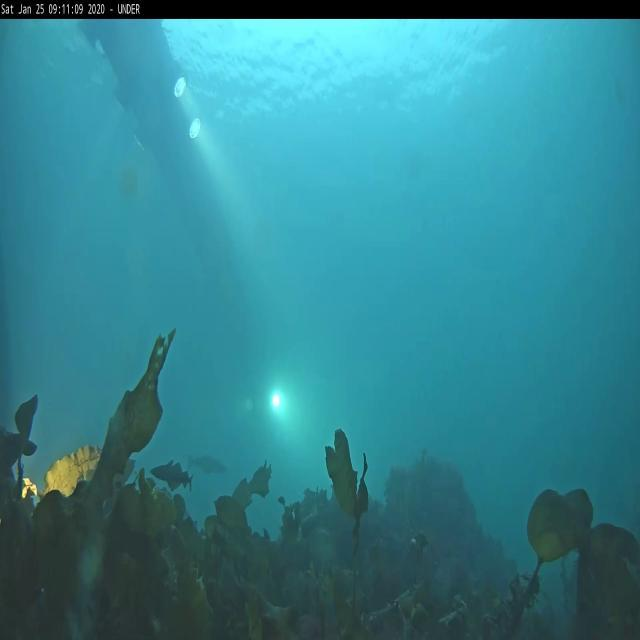fish: (149, 464, 194, 492), (193, 454, 227, 476)
